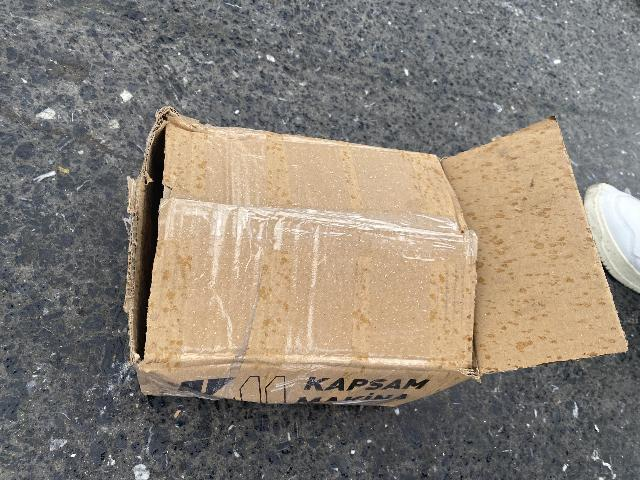Kagit: (124, 106, 629, 409)
